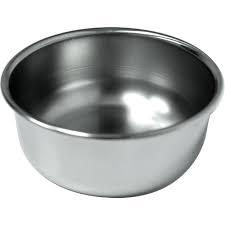Sponge Bowl: (2, 21, 225, 198)
